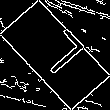L_SW: (25, 27, 85, 83)
